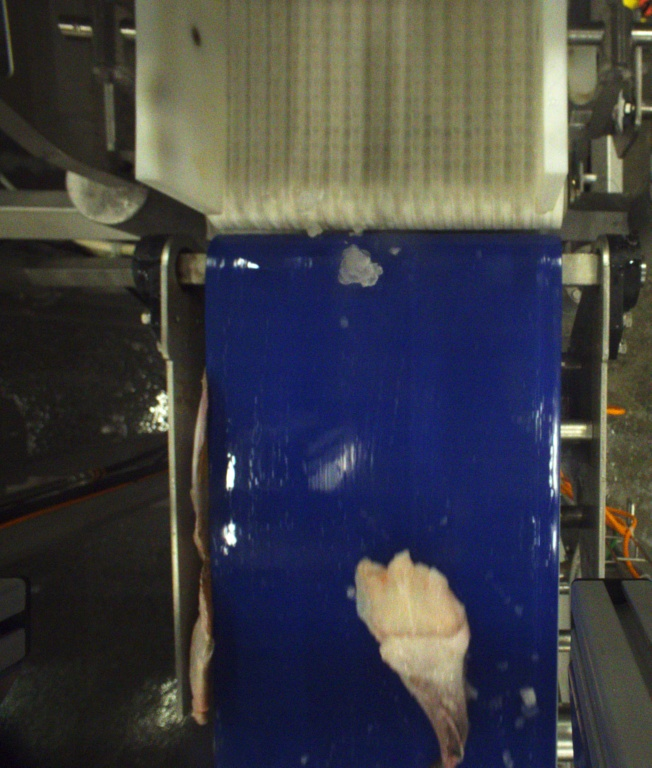ANF: (355, 548, 469, 768)
